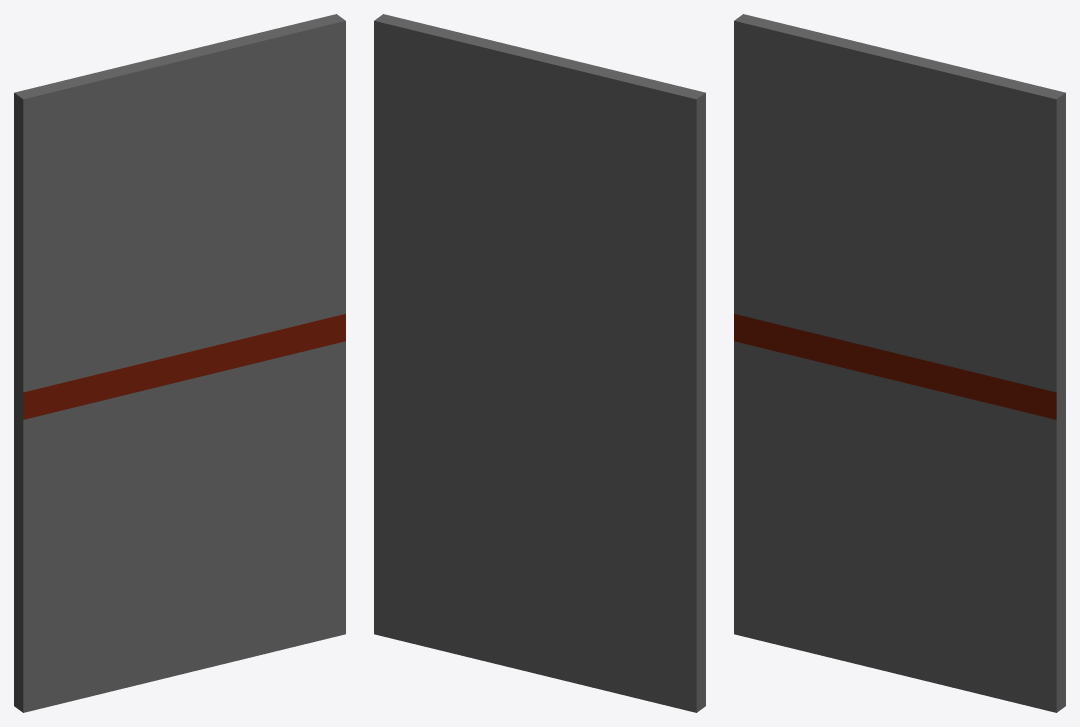
Rendered from Door2.FBX.
3 renders of one model, left to right at view 1: azimuth 30°, elevation 25°; view 2: azimuth 150°, elevation 25°; view 3: azimuth 330°, elevation 25°, orthographic.
Visible parts, largest first — view 1: door2; view 2: door2; view 3: door2.
Part boxes in pixels (x1=…): door2: x1=14, y1=14, x2=345, y2=712; door2: x1=374, y1=14, x2=705, y2=712; door2: x1=734, y1=14, x2=1065, y2=712.
Size of the model in its own units: 43.31 by 78.74 by 2.15.
